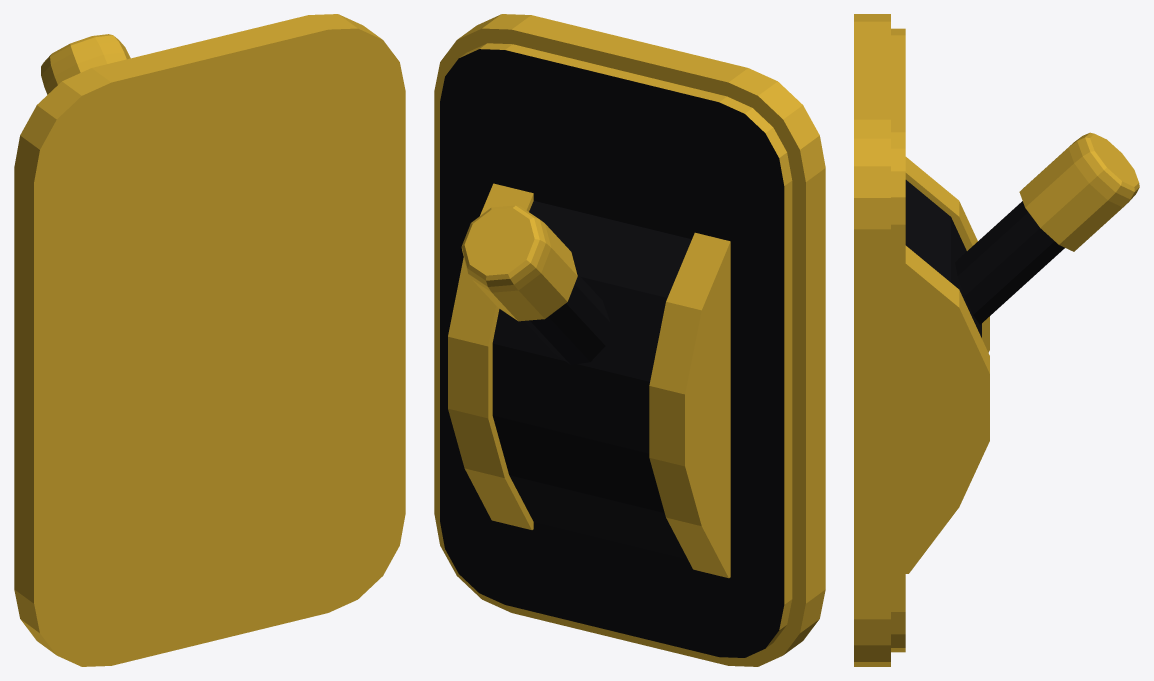
File: ElectricLever.fbx
3 views of the same model, side by side, from view 1: azimuth 30°, elevation 25°; view 2: azimuth 150°, elevation 25°; view 3: azimuth 270°, elevation 25° (orthographic). The views are drawn at different scales.
Parts seen in each view (by area): view 1: LeverBase, Lever; view 2: LeverBase, Lever; view 3: LeverBase, Lever.
Part boxes in pixels (x1,y1,x2,y2): LeverBase: [14, 14, 405, 666]; Lever: [41, 34, 130, 94]; LeverBase: [434, 14, 825, 666]; Lever: [461, 205, 610, 365]; LeverBase: [854, 14, 989, 666]; Lever: [955, 132, 1139, 324].
Bounding box in the file's own units: 45.93 × 68.89 × 33.05.
